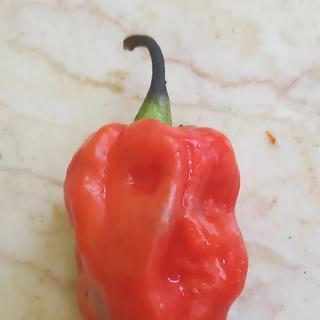Grade-A: (59, 115, 252, 318)
